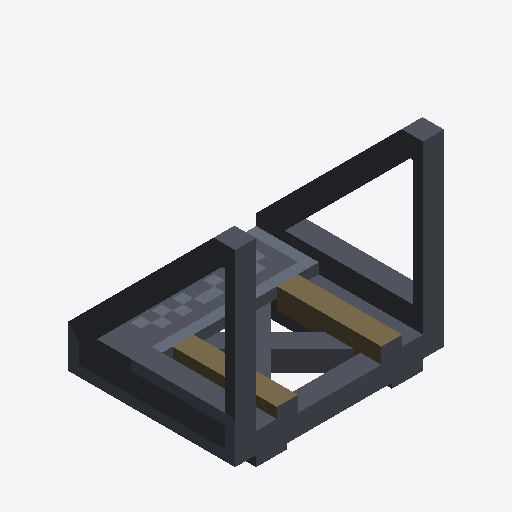
Isometric view (azimuth 45°, elevation 35.3°) of a Minecraft model made of 17 cuboids, textured from the same repository.
Parts seen in each view (by area): element 13, element 2, element 11, element 15, element 14, element 1, element 9, element 12, element 4, element 8, element 6, element 3 (+2 smaller).
Part boxes in pixels (left/top/right/bottom): element 13: left=68, top=323, right=255, bottom=466; element 2: left=118, top=226, right=318, bottom=358; element 11: left=256, top=214, right=443, bottom=358; element 15: left=225, top=232, right=255, bottom=418; element 14: left=413, top=124, right=443, bottom=309; element 1: left=277, top=274, right=401, bottom=368; element 9: left=256, top=117, right=422, bottom=236; element 12: left=68, top=226, right=233, bottom=346; element 4: left=287, top=353, right=391, bottom=442; element 8: left=204, top=332, right=354, bottom=372; element 6: left=173, top=335, right=297, bottom=429; element 3: left=271, top=274, right=422, bottom=388.
Bounding box in the file's own units: 20 × 19.02 × 16.02.